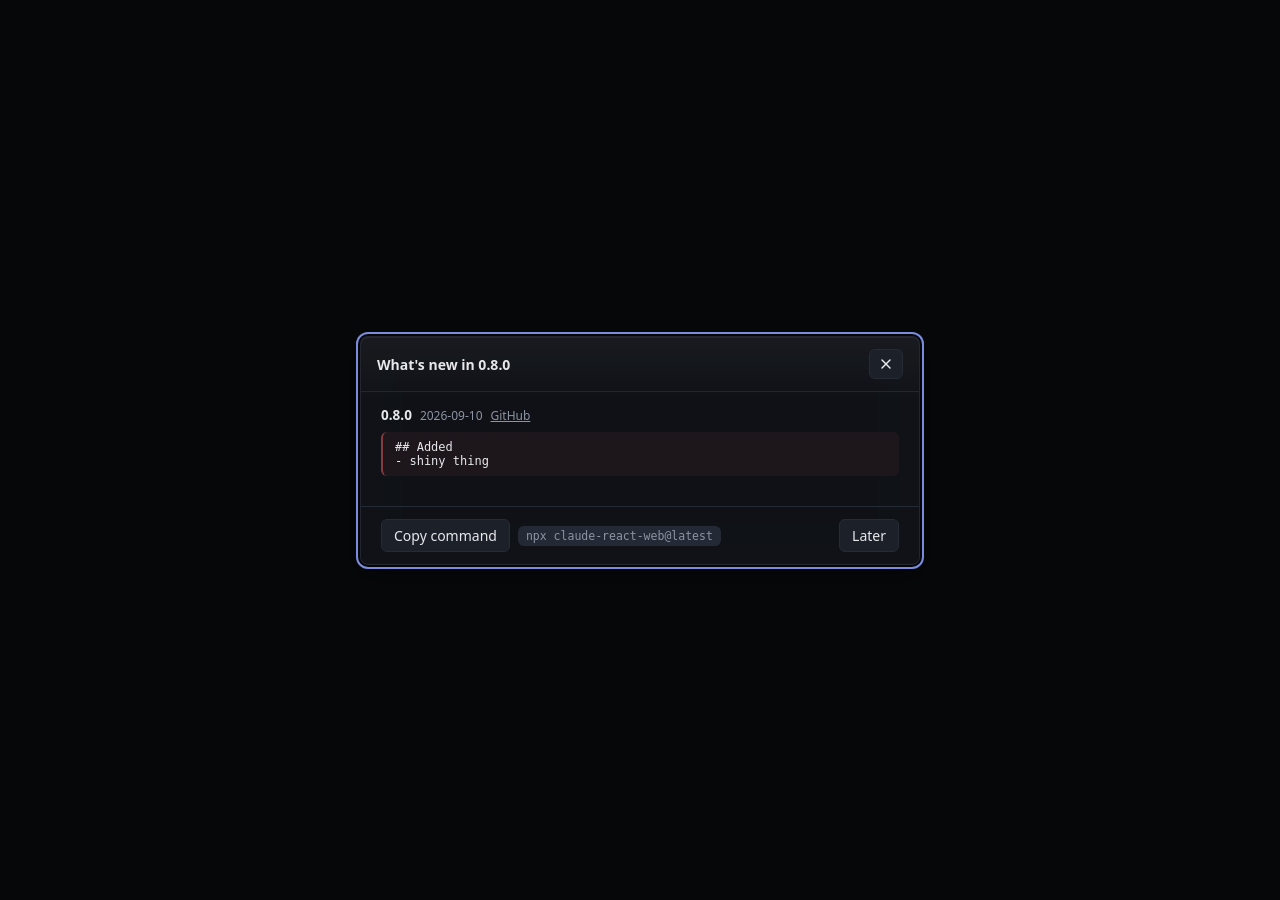
it: UpdateDialog › copies the upgrade command and flips to Copied
Click the button "Copy command" at (445, 535), box x1=381 y1=518 x2=510 y2=552
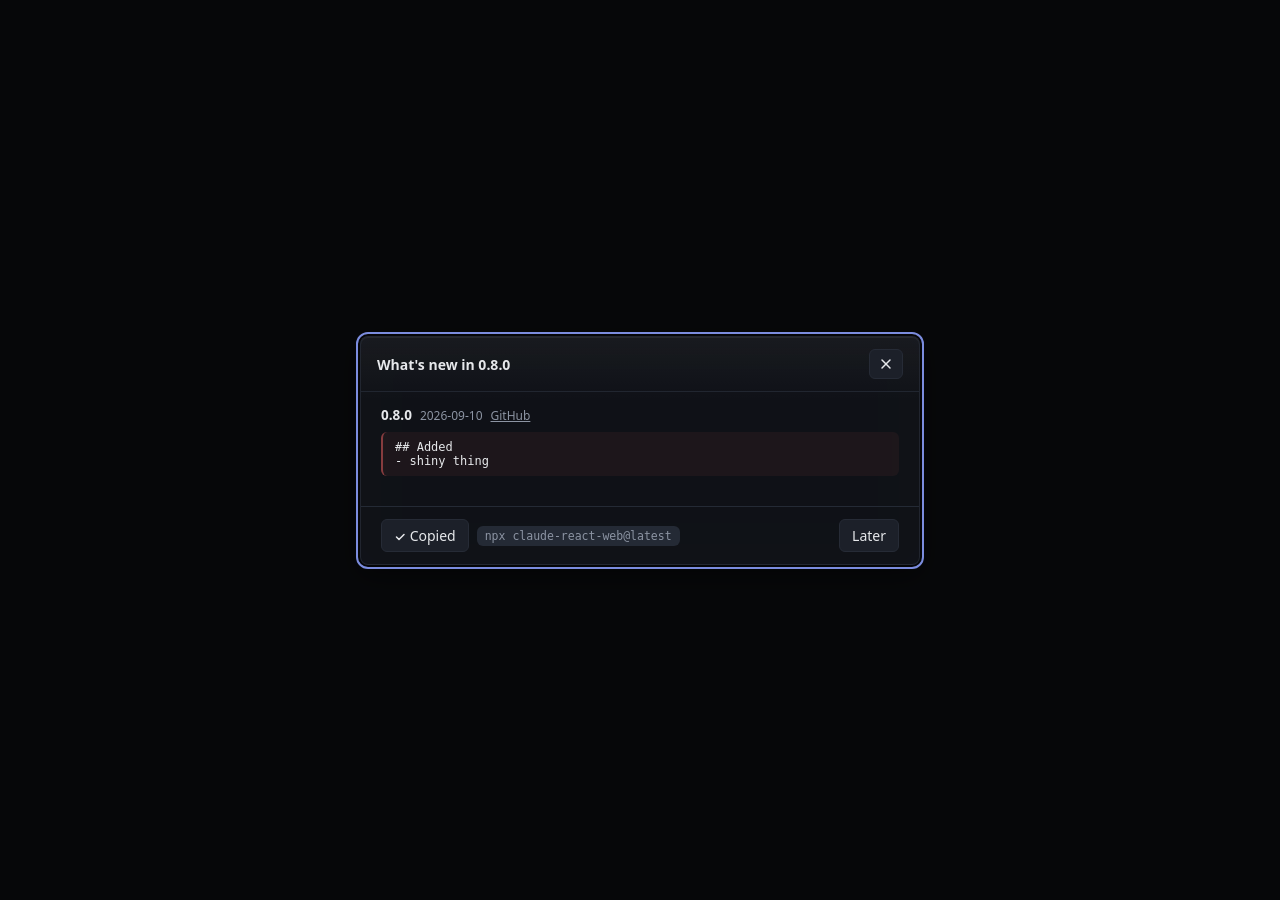
Result: the button "Copied" is shown at x1=381 y1=518 x2=469 y2=552
